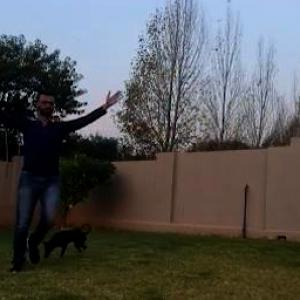takeoff: (0, 83, 124, 281)
